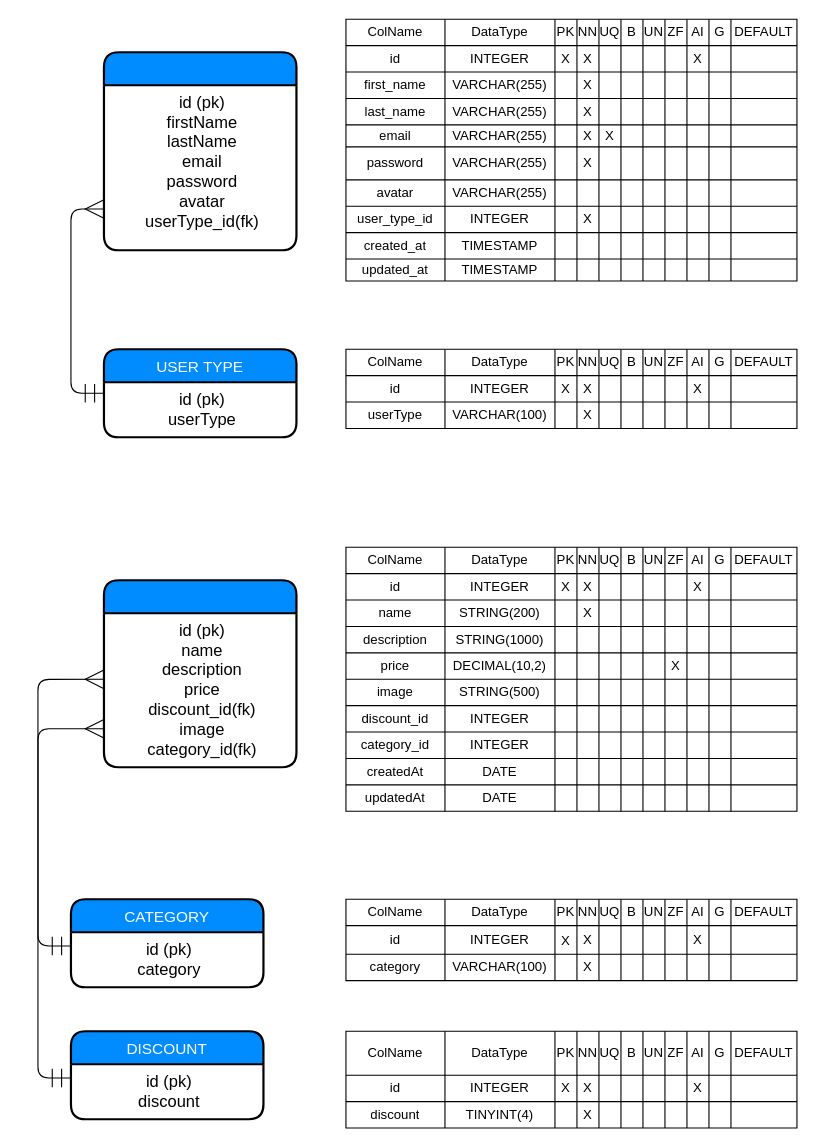
Image size: 816x1147. Some labels were removed from this diagram. Here are the shapes that lost their labels. From the top down, the box of each, then its label:
(102, 51, 297, 251): USERS
(102, 579, 297, 768): PRODUCTS
